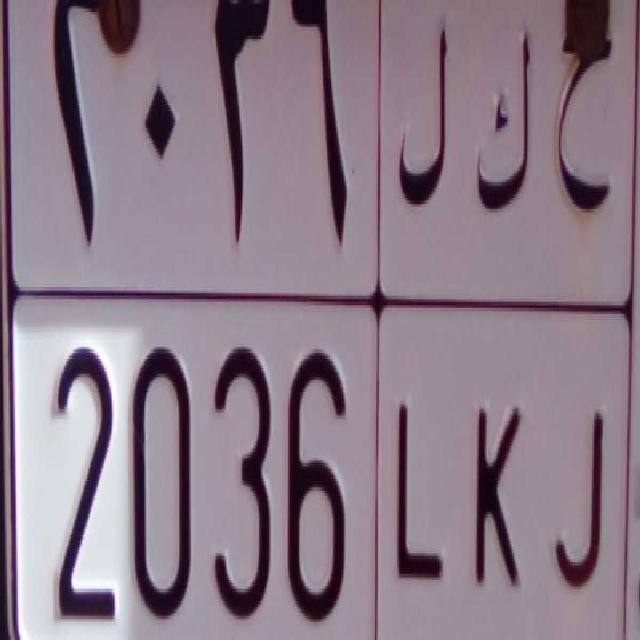license_plate: (30, 279, 614, 640)
